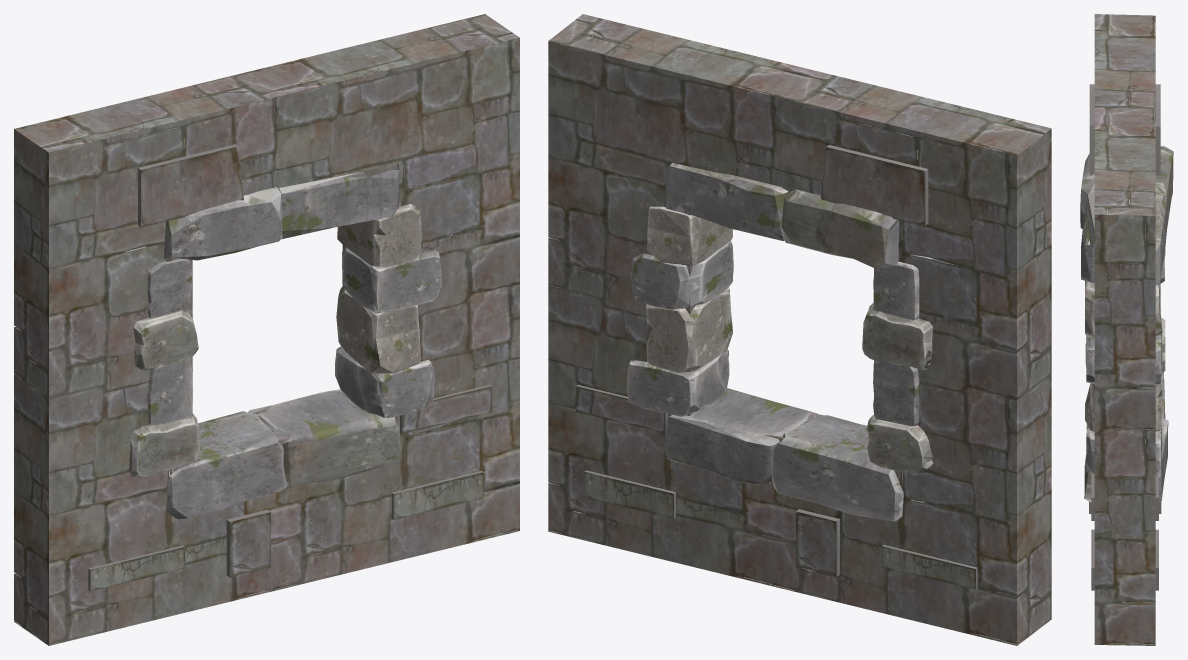
3 renders of one model, left to right at view 1: azimuth 30°, elevation 25°; view 2: azimuth 150°, elevation 25°; view 3: azimuth 270°, elevation 25°, orthographic. The views are drawn at different scales.
Parts seen in each view (by area): view 1: SM_BB_T3_Wall_Large_Windowframe_LOD0; view 2: SM_BB_T3_Wall_Large_Windowframe_LOD0; view 3: SM_BB_T3_Wall_Large_Windowframe_LOD0.
Part boxes in pixels (x1=…): SM_BB_T3_Wall_Large_Windowframe_LOD0: x1=14, y1=14, x2=519, y2=645; SM_BB_T3_Wall_Large_Windowframe_LOD0: x1=548, y1=14, x2=1051, y2=645; SM_BB_T3_Wall_Large_Windowframe_LOD0: x1=1080, y1=14, x2=1173, y2=645.
Bounding box in the file's own units: 3 × 3.01 × 0.5885.
2 materials, 2 textured.
